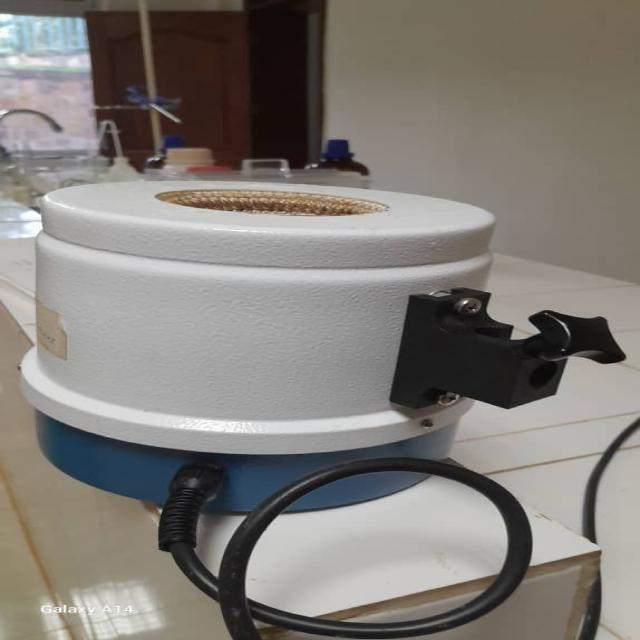Heating Source: (23, 188, 568, 512)
